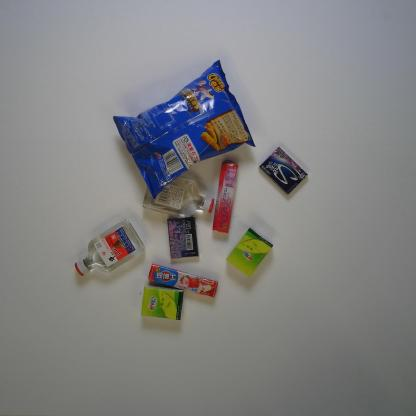Alcohol: (73, 218, 147, 276), (140, 176, 215, 218)
Candy: (146, 264, 218, 298), (209, 160, 240, 235)
Gum: (259, 146, 310, 195), (166, 214, 199, 260)
Puffed Food: (112, 58, 256, 201)
Tissue: (226, 227, 274, 279), (140, 284, 184, 319)
